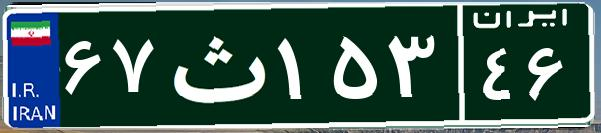1: (273, 28, 330, 110)
3: (385, 28, 445, 110)
4: (475, 38, 525, 113)
5: (330, 28, 385, 110)
6: (57, 26, 110, 107), (525, 38, 570, 115)
7: (110, 28, 158, 105)
ث: (158, 15, 273, 115)
